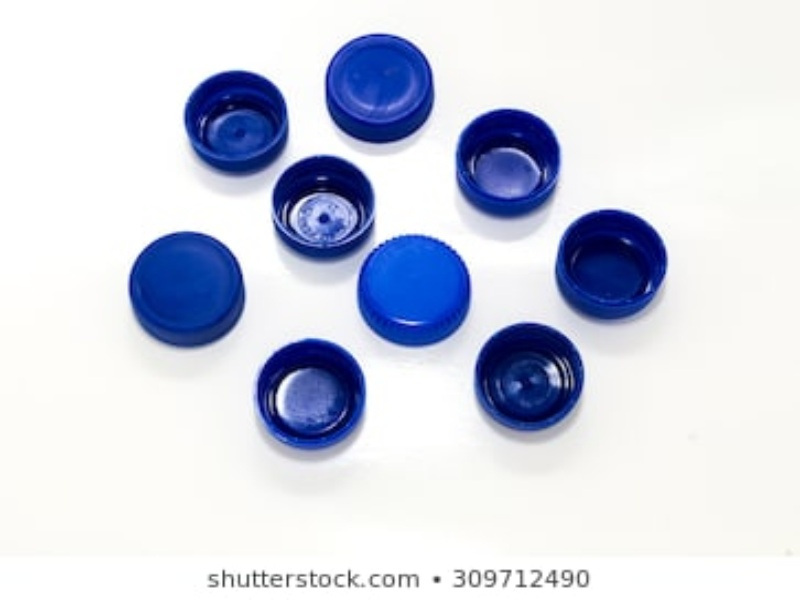bottle-cap: (129, 230, 246, 347), (554, 208, 671, 321), (356, 234, 473, 347), (322, 32, 437, 145), (254, 337, 367, 451), (473, 322, 586, 436), (452, 107, 561, 218), (179, 69, 290, 176), (270, 155, 377, 262)
